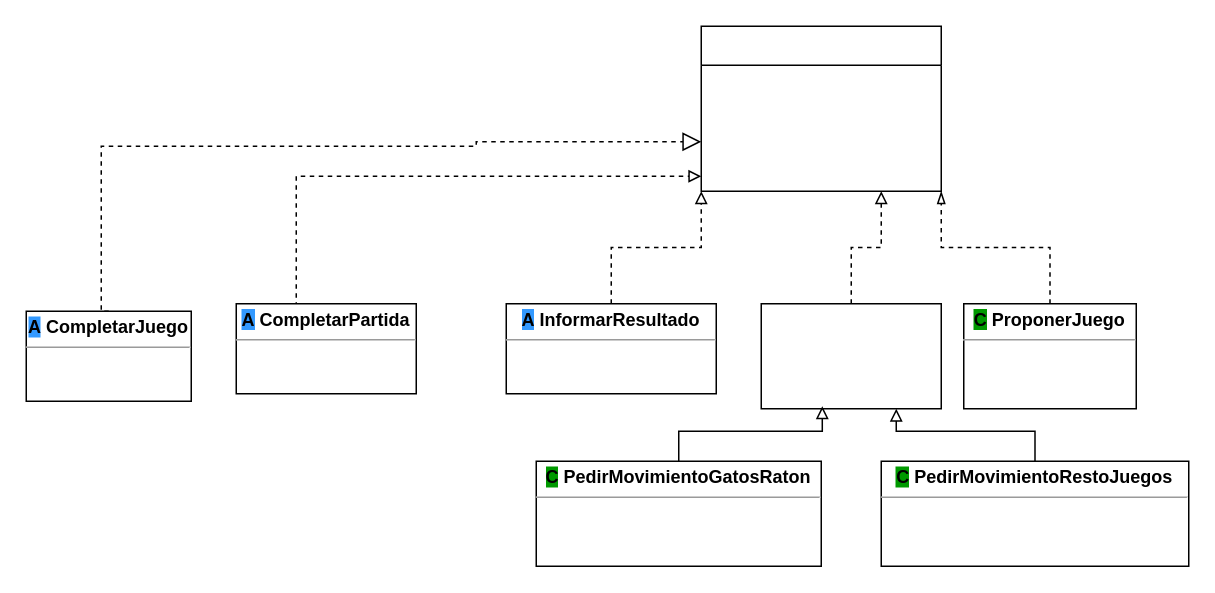
Some shapes in this 1215 by 593 pixel diagram are drawn without their labels. The shapes that lost their labels are listed below. From the top down, each one's box as (x1, y1, x2, y2) in pixels, then its label:
(700, 25, 941, 191): I AgentAction
(760, 302, 941, 409): C PedirMovimiento
